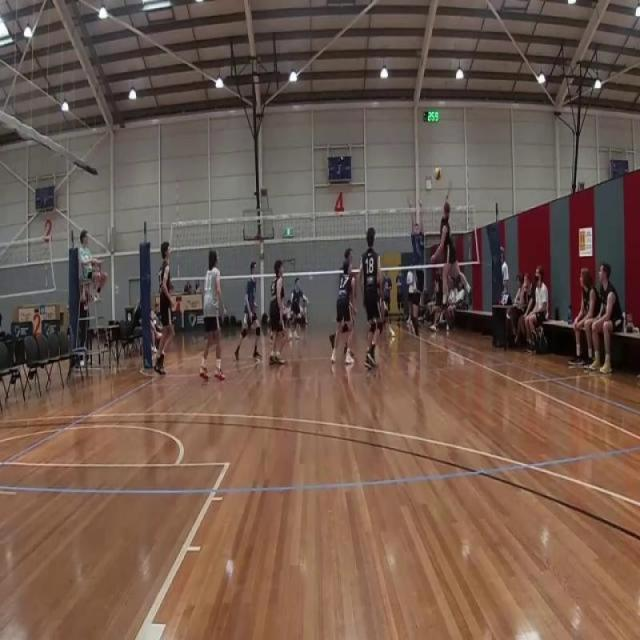volleyball: (433, 165, 442, 182)
